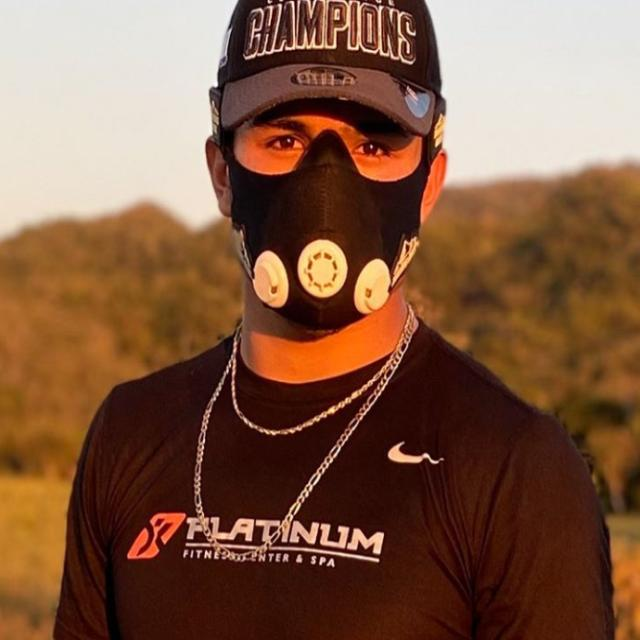hat: (206, 0, 447, 148)
